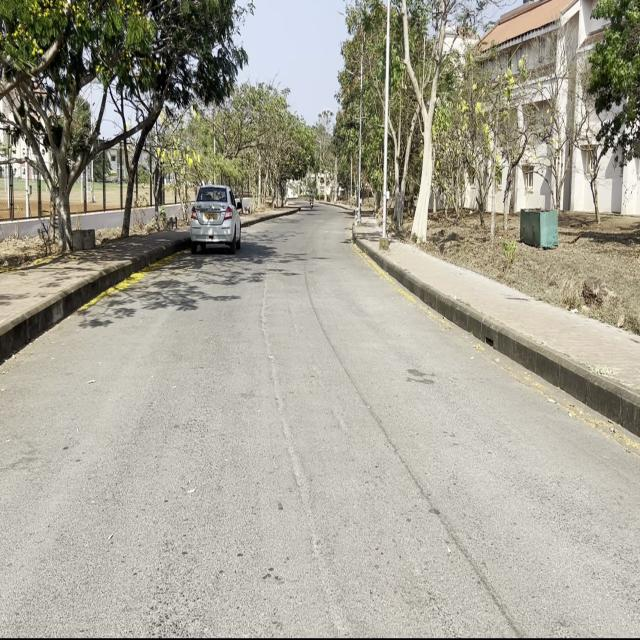Object: (192, 176, 240, 258)
Road: (3, 209, 637, 628)
